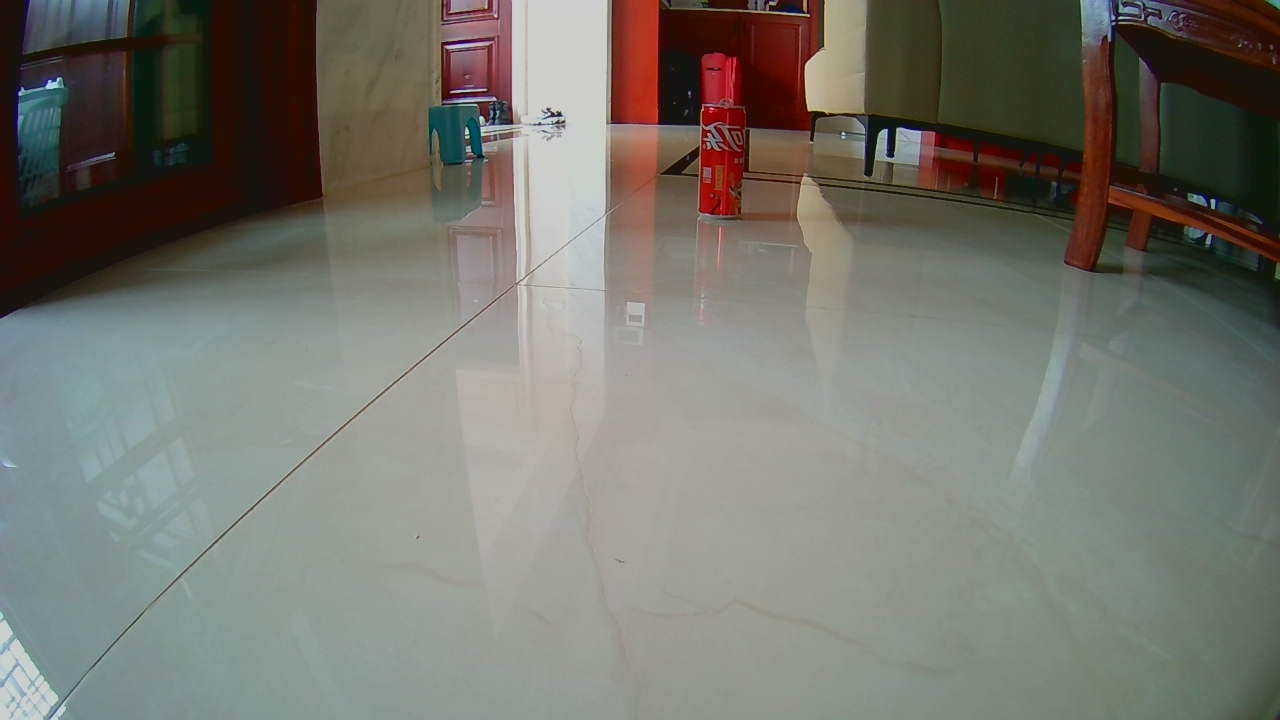cola: (700, 96, 747, 221)
